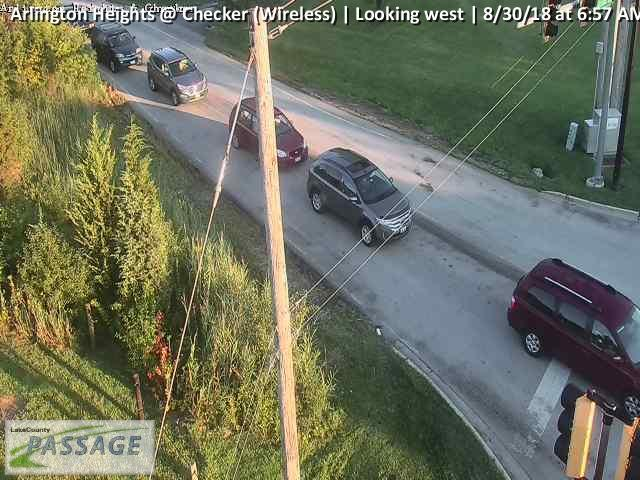SUV: (504, 258, 640, 419)
Sedan: (306, 148, 414, 249), (228, 99, 307, 173), (146, 47, 208, 103), (90, 22, 142, 71)
